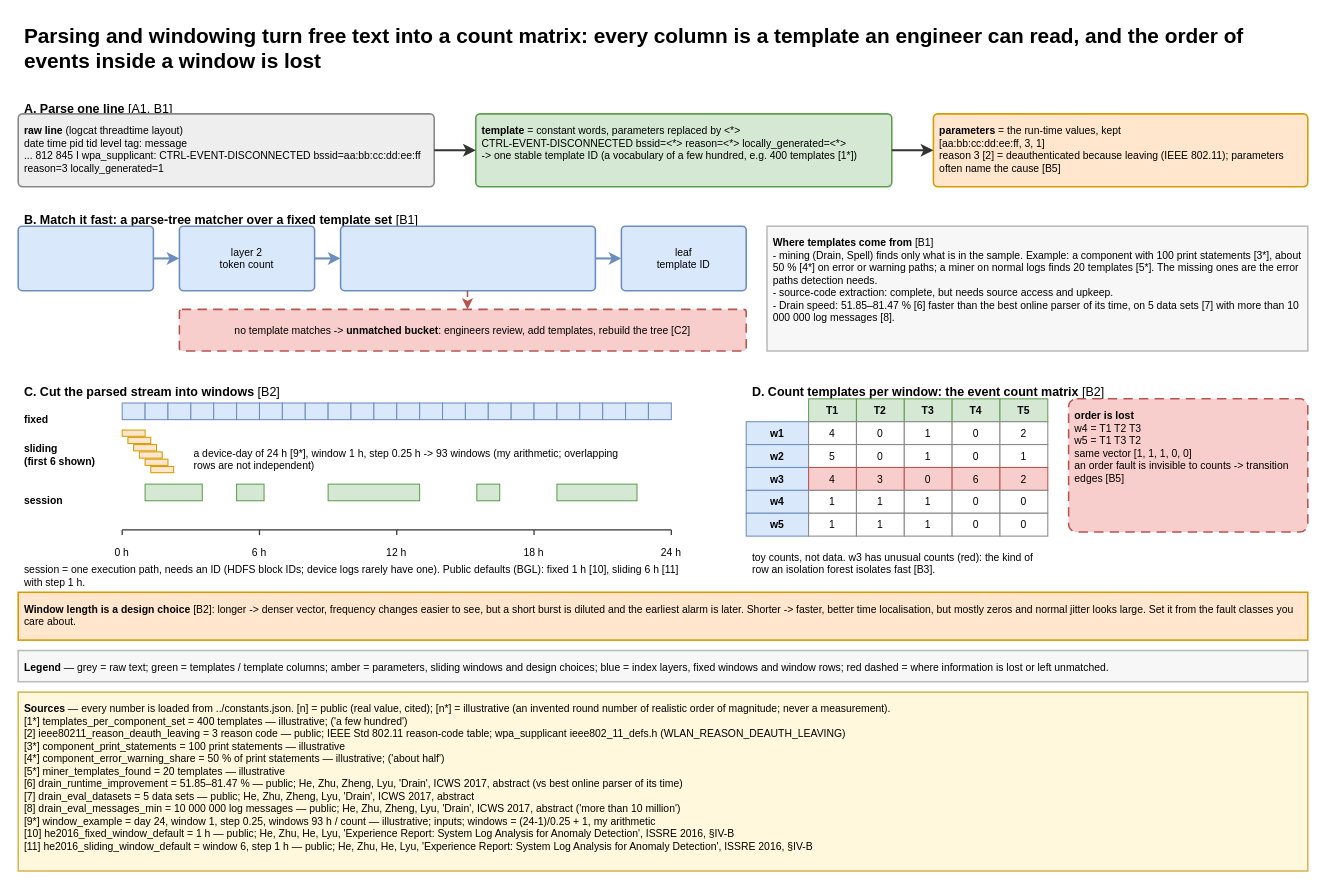
Some shapes in this 1327 by 889 pixel diagram are drawn without their labels. Each missing label, with the centre of its shape:
layer 1 component (tag): the point at 85,258
one layer per token partial-token wildcards keep event=<*> and error=<*> apart: the point at 467,258
